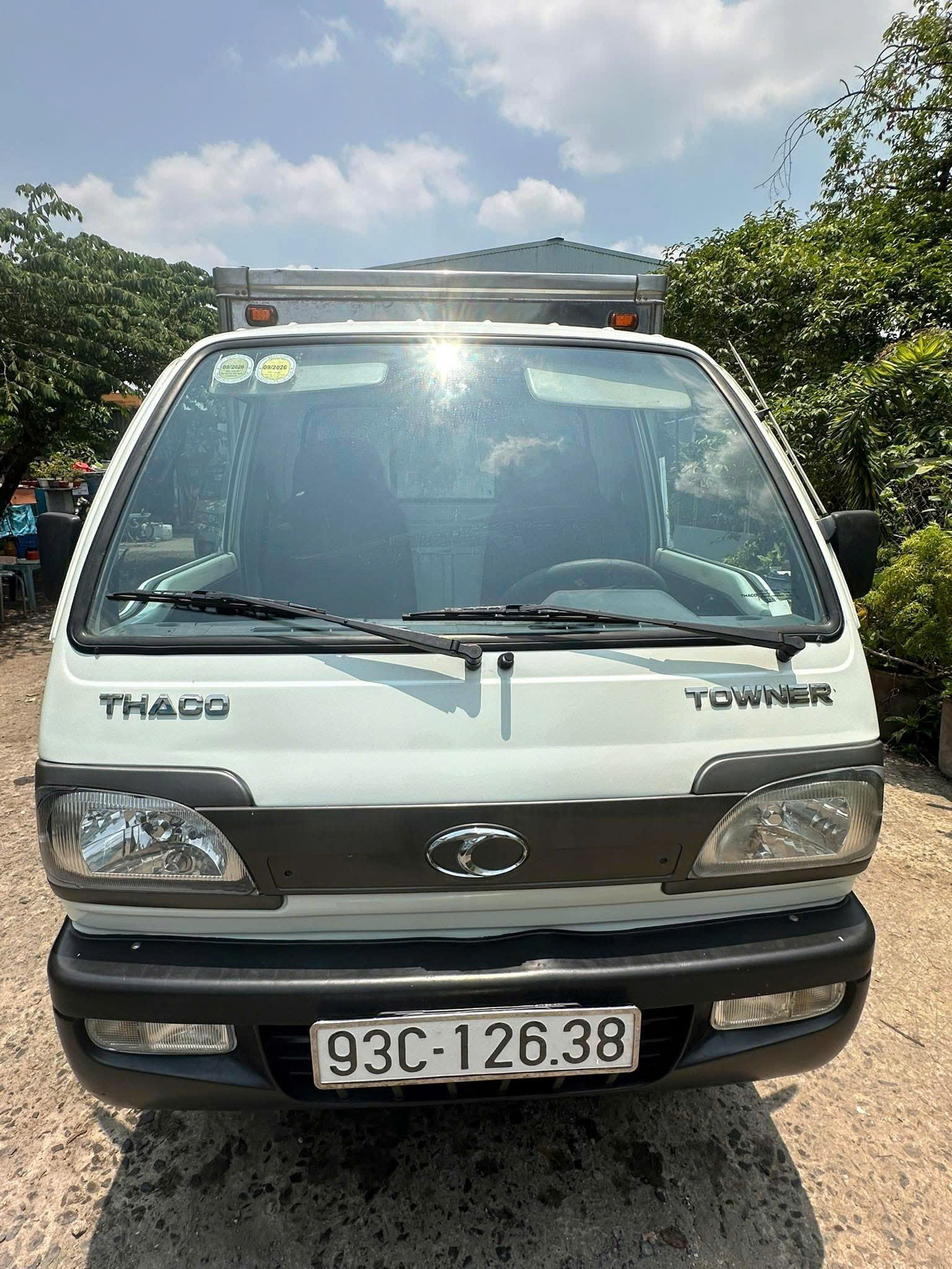Bien-so: (316, 1008, 636, 1092)
